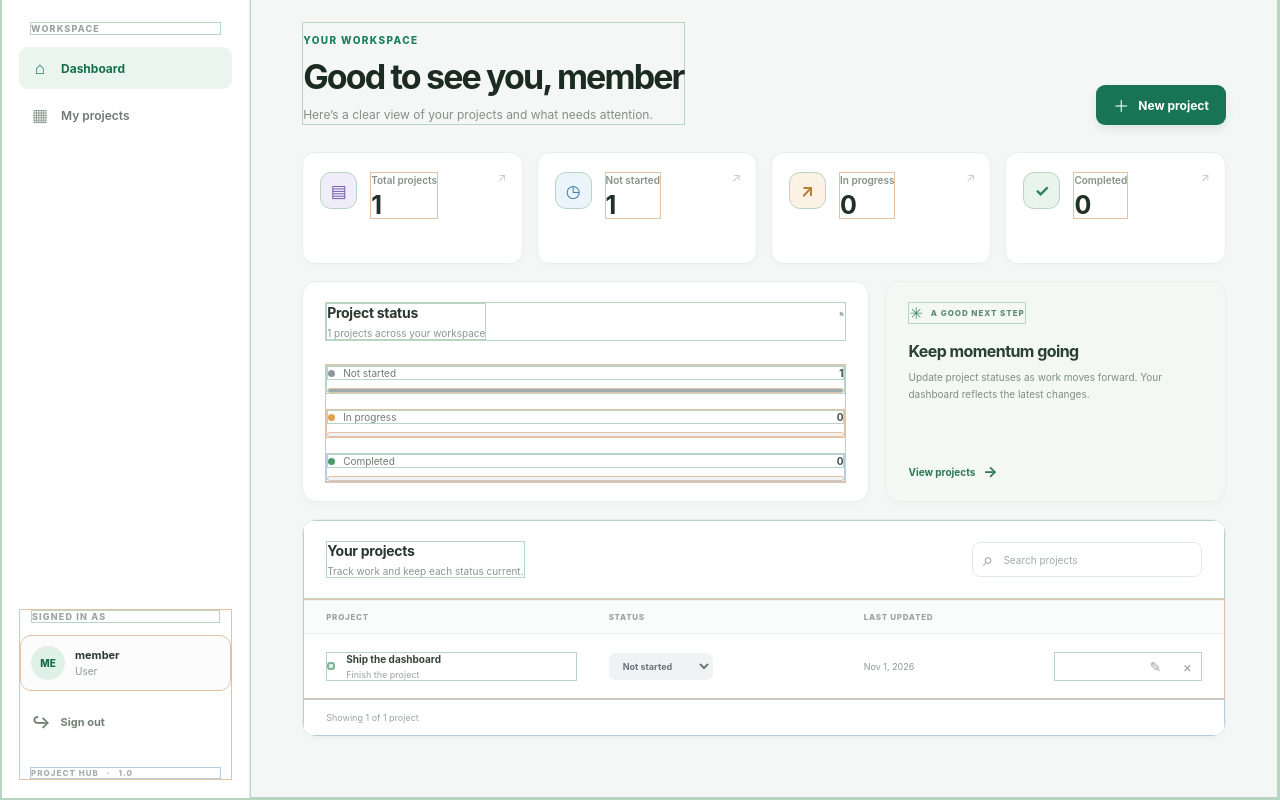
Scenario: workspace access and project actions › shows a member's projects without administrator controls and signs out
(page scrolled)
Expected: the text "Ship the dashboard" is shown, [346,652,441,664]
Click the button "↪ Sign out": click(126, 722) [20,702,231,742]
(page scrolled)
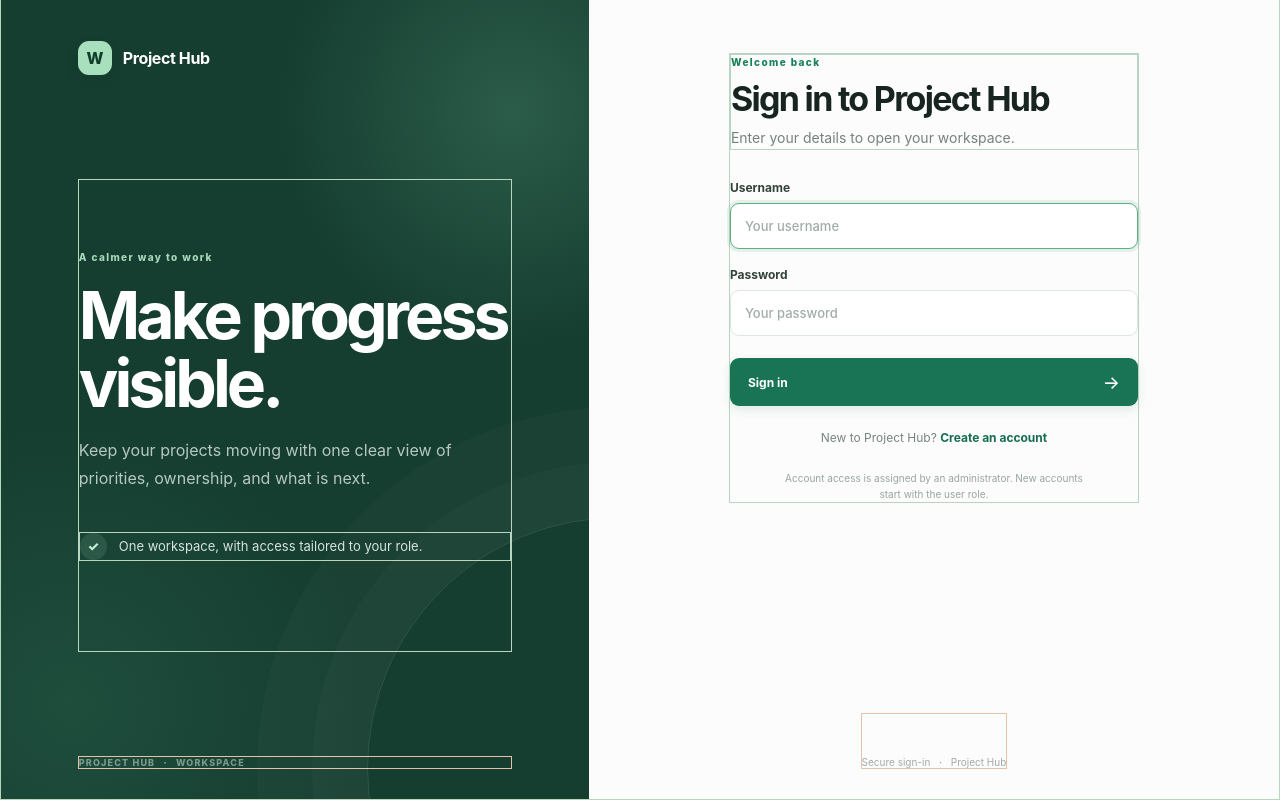
Expected: the button "Sign in →" is shown, [730,358,1138,406]
Expected: the text "Ship the dashboard" is gone
